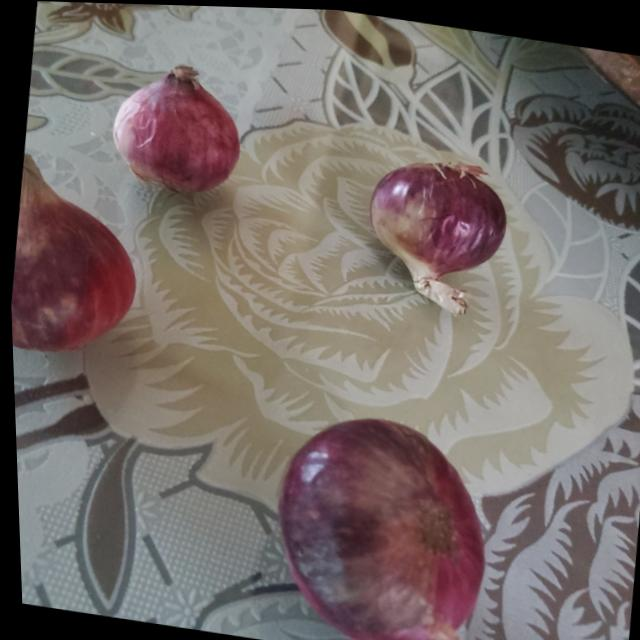onion: (258, 404, 499, 640), (4, 150, 145, 358), (105, 54, 247, 199), (362, 147, 513, 280)
